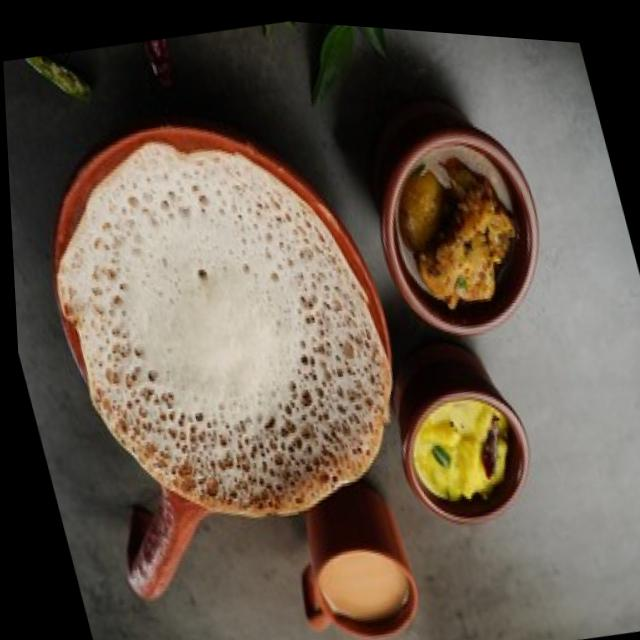AAPAM: (57, 142, 392, 511)
VEGGIES: (414, 400, 506, 494)
